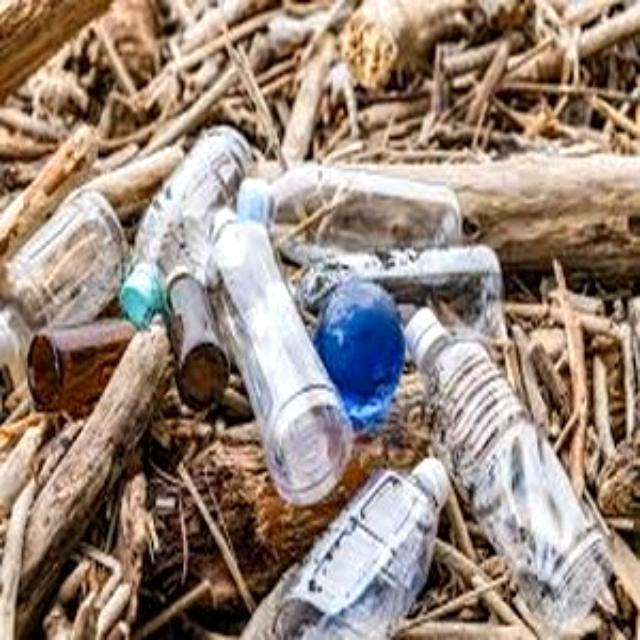Plastic: (409, 296, 609, 622), (207, 207, 355, 508), (264, 447, 446, 639), (0, 187, 130, 347), (228, 168, 456, 256)
